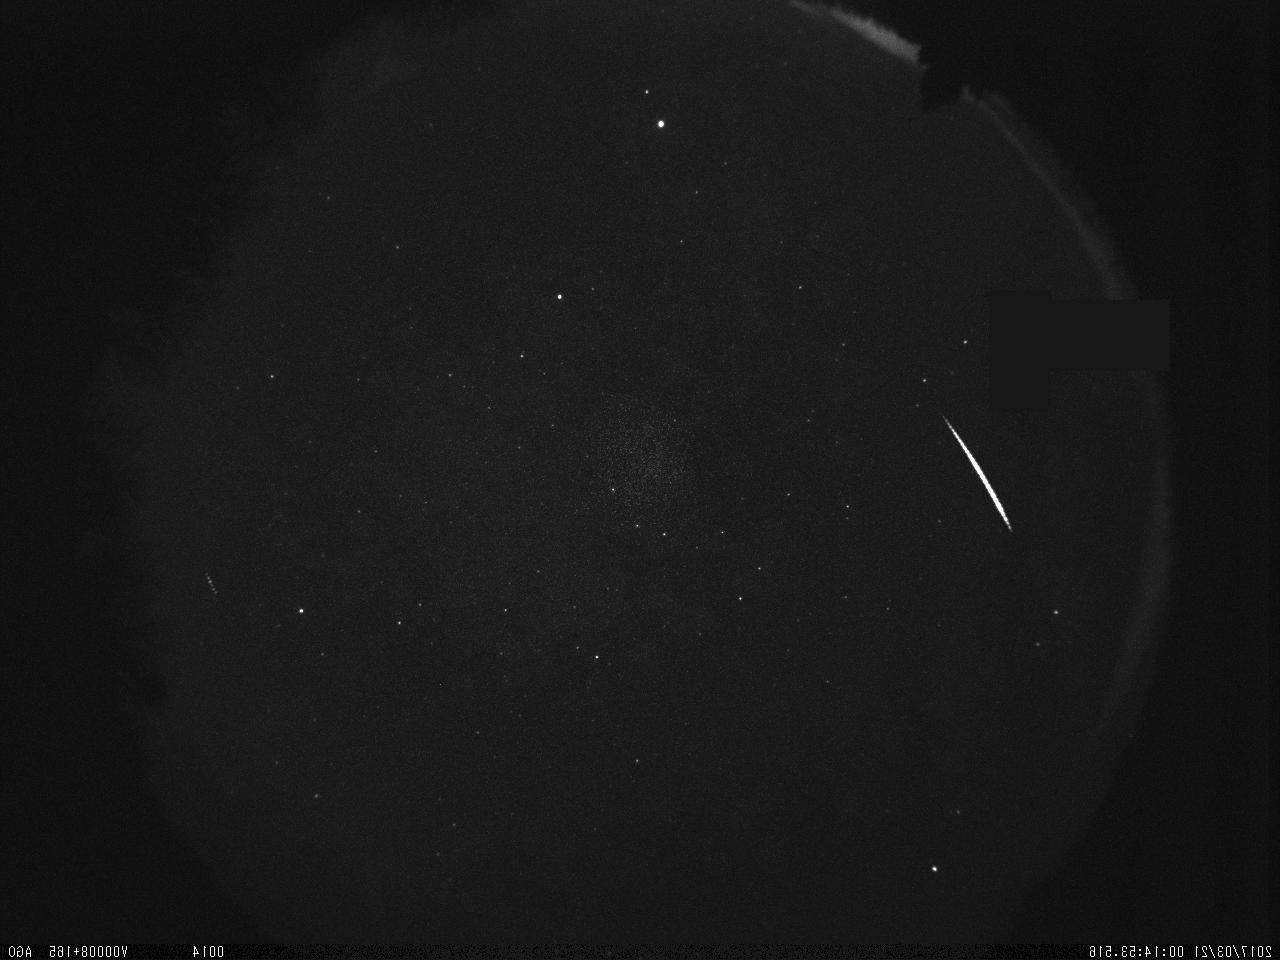meteor: (933, 409, 1023, 535)
